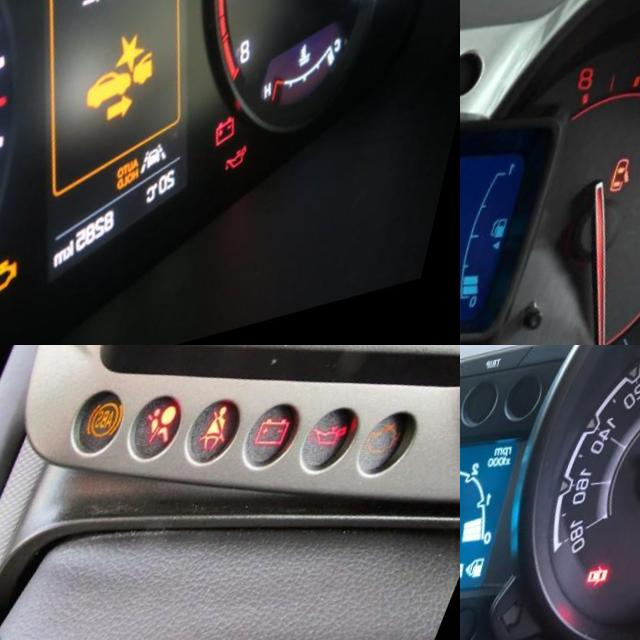Doors: (620, 170, 640, 208), (605, 573, 630, 597)
LaneCenteringOff: (157, 149, 192, 184)
